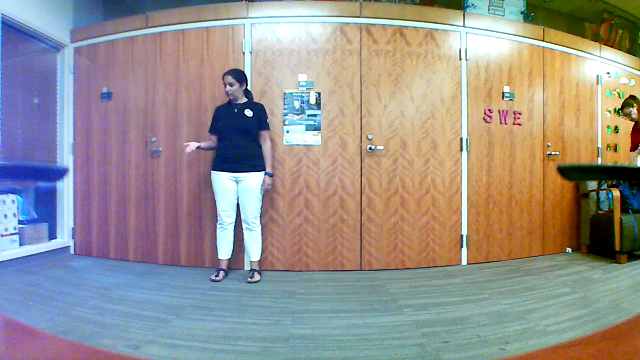land: (177, 137, 207, 157)
